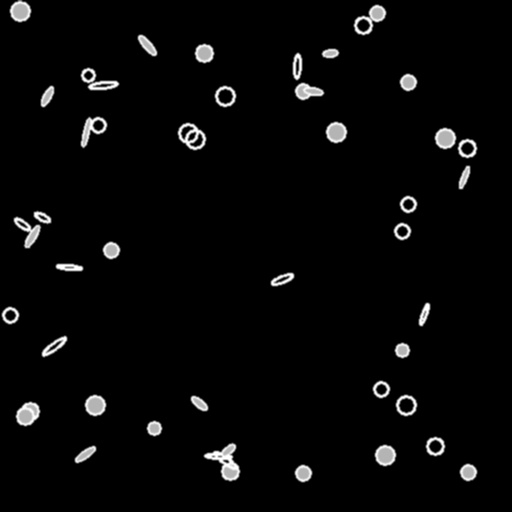pseudomonas: (212, 449, 238, 471), (41, 335, 67, 357), (136, 33, 158, 57), (23, 224, 41, 248), (74, 445, 96, 463), (80, 117, 92, 147), (12, 216, 32, 232), (271, 272, 293, 286), (458, 165, 470, 189), (418, 302, 430, 326), (190, 395, 208, 411), (89, 80, 117, 90), (40, 86, 54, 106), (33, 210, 51, 224), (220, 443, 236, 457), (293, 53, 301, 79), (57, 263, 81, 271), (205, 453, 231, 459), (304, 87, 322, 95), (322, 49, 338, 57)
synechocystis: (397, 396, 415, 414), (436, 129, 454, 147), (186, 130, 204, 148), (179, 124, 197, 142), (11, 2, 29, 20), (86, 396, 104, 414), (216, 87, 234, 105), (327, 123, 345, 141), (376, 446, 394, 464), (22, 403, 38, 419), (355, 17, 371, 33), (196, 45, 212, 61), (222, 463, 238, 479), (459, 140, 475, 156), (427, 438, 443, 454), (17, 408, 33, 424), (91, 118, 105, 132), (401, 197, 415, 211), (374, 382, 388, 396), (401, 75, 415, 89), (296, 84, 310, 98), (461, 465, 475, 479), (395, 224, 409, 238), (296, 466, 310, 480), (104, 243, 118, 257), (3, 308, 17, 322), (370, 6, 384, 20), (396, 344, 408, 356), (148, 422, 160, 434), (82, 69, 94, 81)
